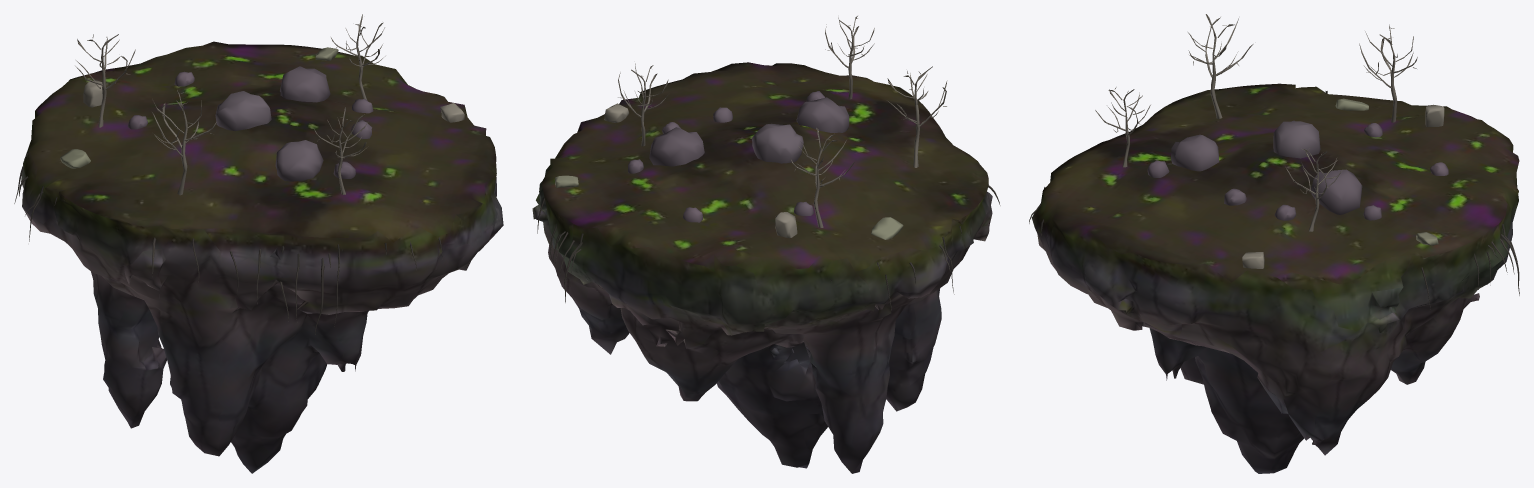
The model's file is island-nest-lod1.glb.
3 views of the same model, side by side, from view 1: azimuth 30°, elevation 25°; view 2: azimuth 150°, elevation 25°; view 3: azimuth 270°, elevation 25° (orthographic). The views are drawn at different scales.
Parts seen in each view (by area): view 1: Terrain, Detail; view 2: Terrain, Detail; view 3: Terrain, Detail.
Boxes of the visible parts, x1,y1,x2,y2 form: Terrain: (21, 41, 503, 473); Detail: (14, 14, 464, 334); Terrain: (532, 62, 992, 473); Detail: (537, 16, 1000, 312); Terrain: (1032, 83, 1519, 473); Detail: (1029, 14, 1519, 309).
Size of the model in its own units: 35.87 by 34.33 by 37.14.
2 materials, 1 textured.
